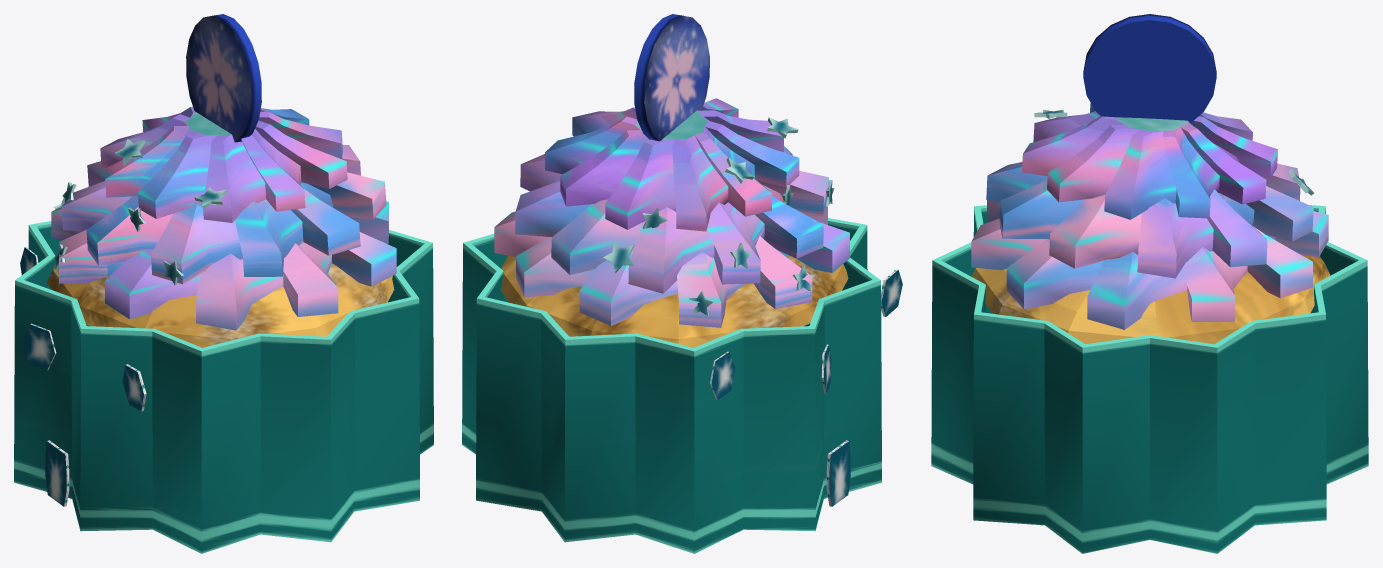
The model's file is galaxy cupcake.fbx.
3 views of the same model, side by side, from view 1: azimuth 30°, elevation 25°; view 2: azimuth 150°, elevation 25°; view 3: azimuth 270°, elevation 25° (orthographic).
Visible parts, largest first — view 1: polySurface28; view 2: polySurface28; view 3: polySurface28.
Part boxes in pixels (left/top/right/bottom): polySurface28: left=14, top=14, right=433, bottom=553; polySurface28: left=462, top=14, right=902, bottom=553; polySurface28: left=931, top=14, right=1368, bottom=553.
Bounding box in the file's own units: 9.53 × 11.44 × 10.02.
1 material, 1 textured.
